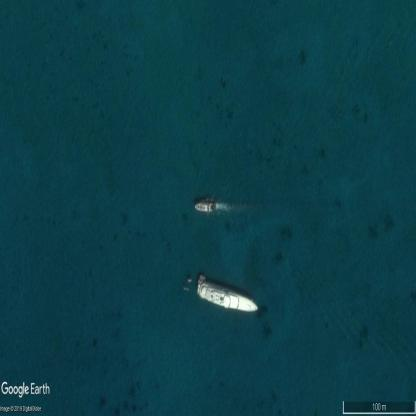ship: (198, 280, 258, 312), (195, 203, 215, 212), (200, 275, 206, 280), (188, 279, 192, 282)
